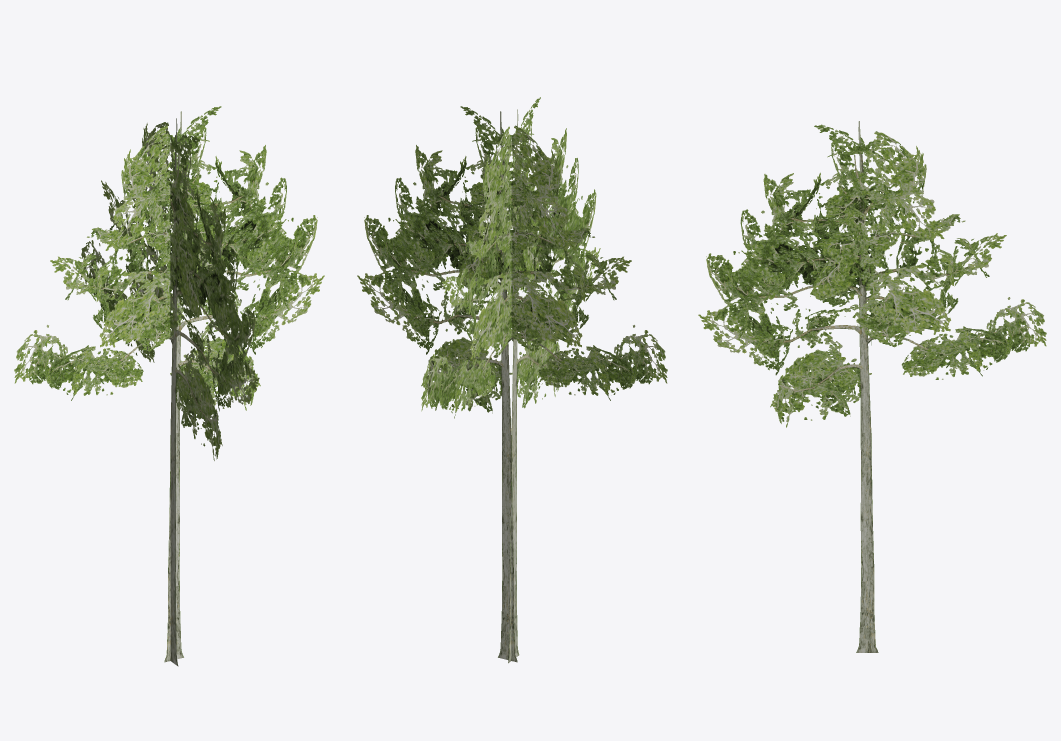
File: alpha-tree.glb
3 renders of one model, left to right at view 1: azimuth 30°, elevation 25°; view 2: azimuth 150°, elevation 25°; view 3: azimuth 270°, elevation 25°, orthographic. The views are drawn at different scales.
Visible parts, largest first — view 1: tall_tree_low; view 2: tall_tree_low; view 3: tall_tree_low.
Boxes of the visible parts, box(x1,y1,x2,y2) form: tall_tree_low: box(14, 106, 324, 666); tall_tree_low: box(357, 97, 667, 663); tall_tree_low: box(698, 121, 1046, 652).
Bounding box in the file's own units: 6.1 × 10.85 × 6.1.
1 material, 1 textured.
